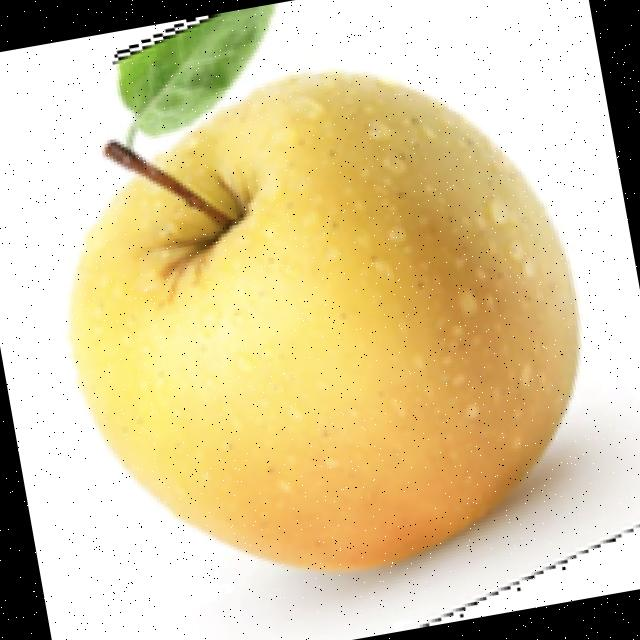apple: (63, 3, 599, 618)
